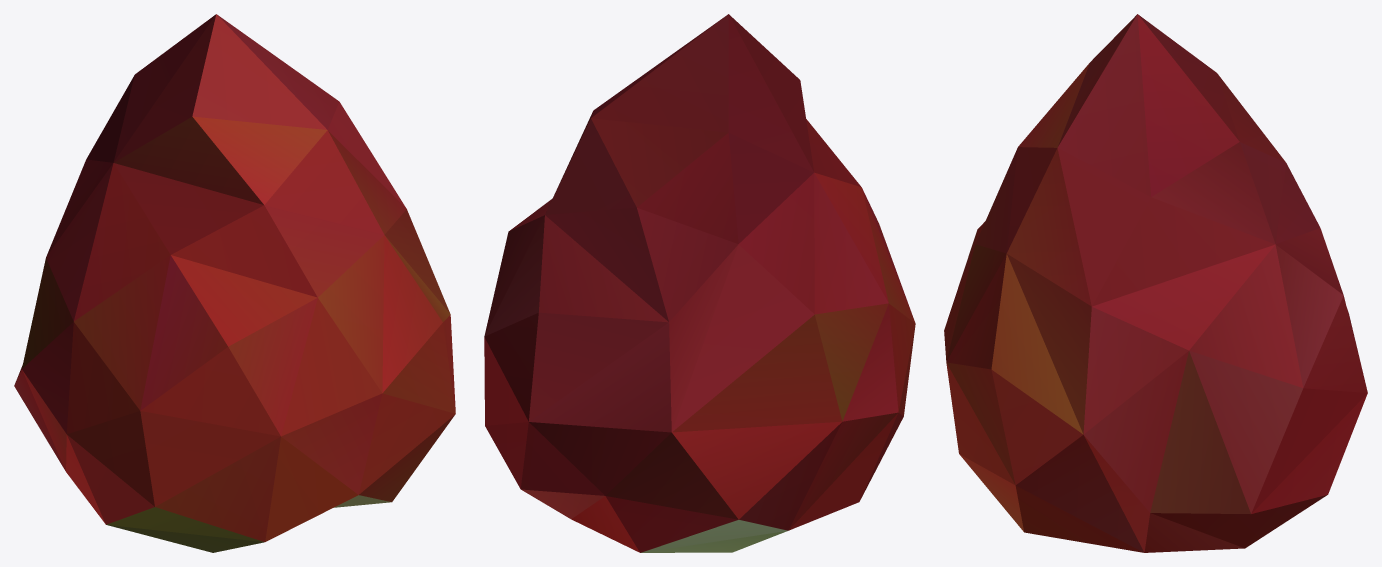
3 renders of one model, left to right at view 1: azimuth 30°, elevation 25°; view 2: azimuth 150°, elevation 25°; view 3: azimuth 270°, elevation 25°, orthographic. The views are drawn at different scales.
Parts seen in each view (by area): view 1: strawberry_08_visual; view 2: strawberry_08_visual; view 3: strawberry_08_visual.
Boxes of the visible parts, left/top/right/bottom form: strawberry_08_visual: left=14, top=14, right=455, bottom=552; strawberry_08_visual: left=484, top=14, right=915, bottom=552; strawberry_08_visual: left=944, top=14, right=1367, bottom=552.
Size of the model in its own units: 0.8047 by 0.8212 by 1.09.
